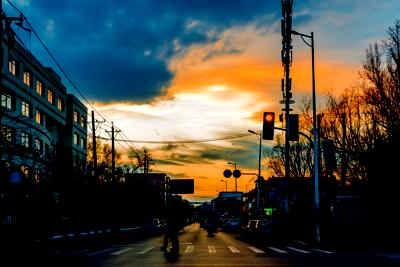International Road Signal Light: (262, 111, 275, 140), (288, 113, 299, 141)
